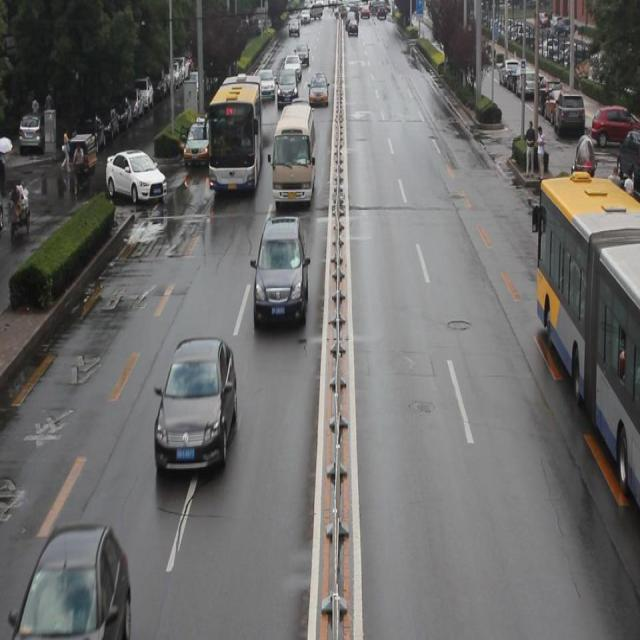car: (18, 528, 128, 632), (153, 341, 236, 473), (254, 215, 308, 331), (106, 151, 168, 206), (183, 126, 216, 176)
truck: (274, 105, 313, 208)
van: (531, 183, 640, 519), (210, 76, 263, 195)
